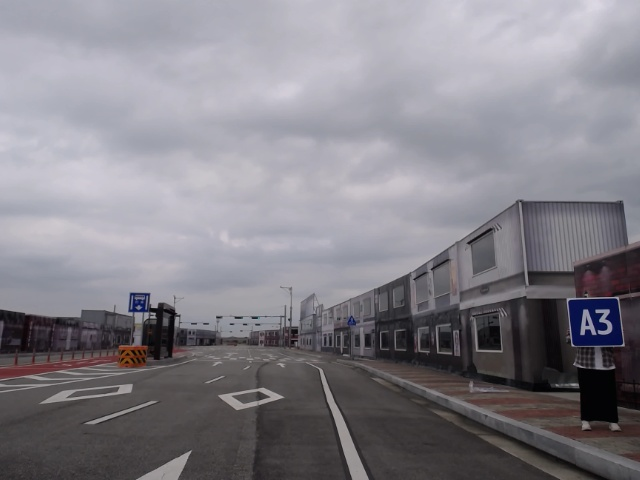delivery_a3: (567, 298, 624, 347)
